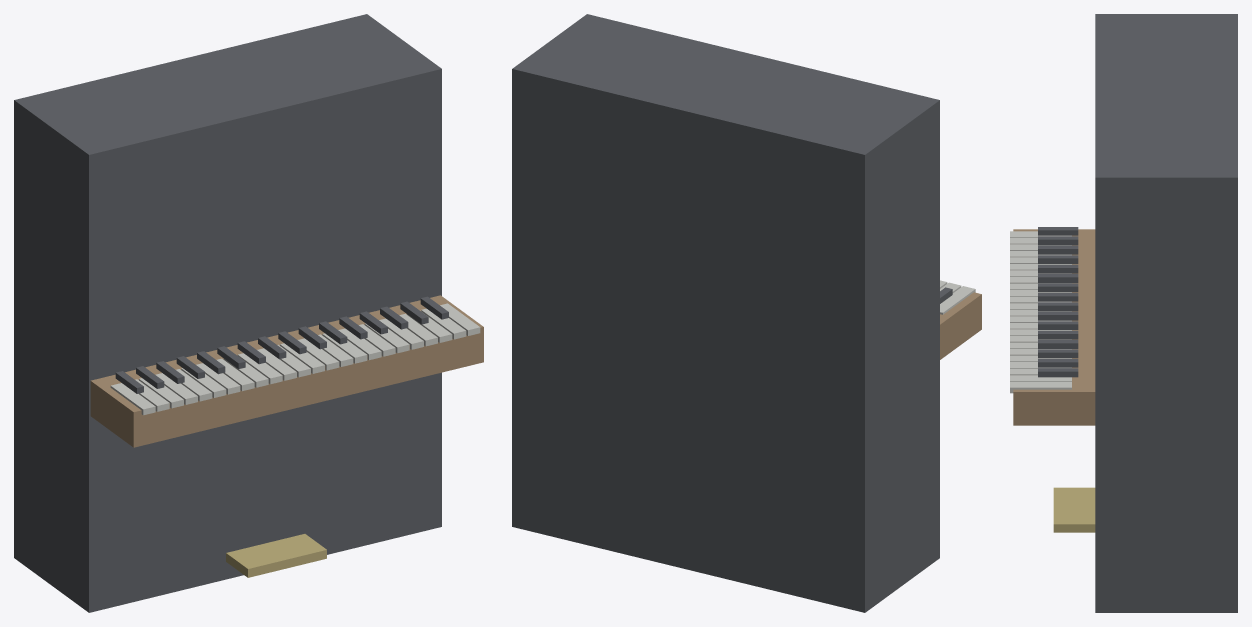
File: MUS-001.glb
The picture shows the model from 3 angles, left to right: view 1: azimuth 30°, elevation 25°; view 2: azimuth 150°, elevation 25°; view 3: azimuth 270°, elevation 25°; orthographic projection. The views are drawn at different scales.
Parts seen in each view (by area): view 1: 000_Piano_case, 001_Keyboard_front, 042_Pedals; view 2: 000_Piano_case, 001_Keyboard_front; view 3: 000_Piano_case, 001_Keyboard_front, 042_Pedals, 025_Ivory_key, 027_Black_key, 028_Black_key, 030_Black_key, 032_Black_key, 034_Black_key, 035_Black_key, 037_Black_key, 039_Black_key (+9 smaller).
Boxes of the visible parts, left/top/right/bottom form: 000_Piano_case: left=14, top=14, right=441, bottom=612; 001_Keyboard_front: left=90, top=295, right=483, bottom=447; 042_Pedals: left=226, top=534, right=326, bottom=577; 000_Piano_case: left=512, top=14, right=939, bottom=612; 001_Keyboard_front: left=940, top=292, right=981, bottom=359; 000_Piano_case: left=1095, top=14, right=1237, bottom=612; 001_Keyboard_front: left=1013, top=229, right=1095, bottom=425; 042_Pedals: left=1053, top=487, right=1095, bottom=532; 025_Ivory_key: left=1010, top=381, right=1071, bottom=393; 027_Black_key: left=1038, top=236, right=1078, bottom=245; 028_Black_key: left=1038, top=245, right=1078, bottom=254; 030_Black_key: left=1038, top=264, right=1078, bottom=273; 032_Black_key: left=1038, top=283, right=1078, bottom=292; 034_Black_key: left=1038, top=302, right=1078, bottom=311; 035_Black_key: left=1038, top=311, right=1078, bottom=320; 037_Black_key: left=1038, top=330, right=1078, bottom=339; 039_Black_key: left=1038, top=349, right=1078, bottom=358.
Size of the model in its own units: 1.25 by 1.55 by 0.735.
